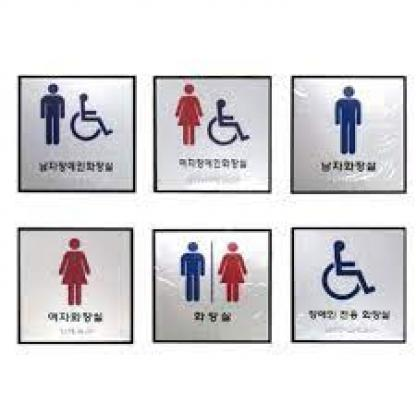toilet: (172, 81, 252, 150), (36, 82, 115, 150), (178, 238, 252, 305), (320, 239, 379, 303), (52, 237, 95, 305), (331, 85, 368, 157)
